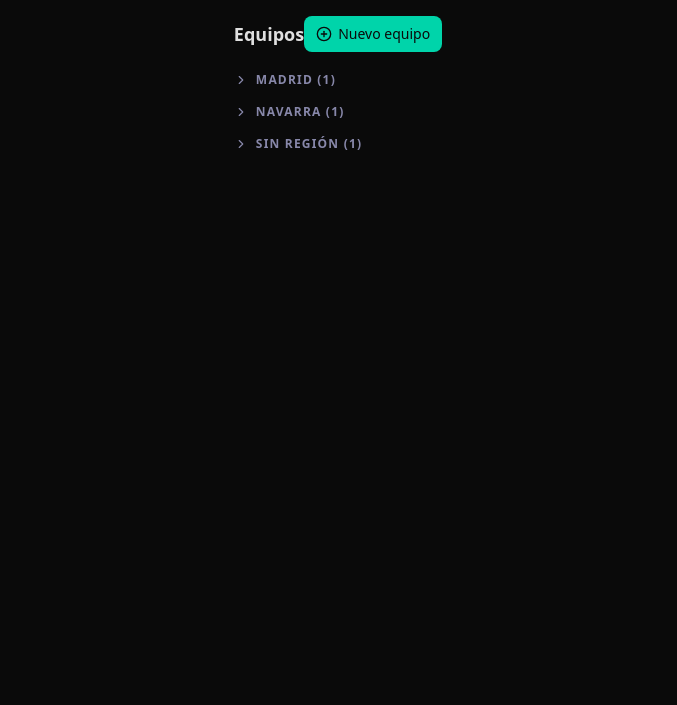
Test case: AdminEquiposPage › shows edit form with team data when clicking edit
Click the button "Madrid (1)".
click(338, 80)  # box x1=234 y1=68 x2=442 y2=92
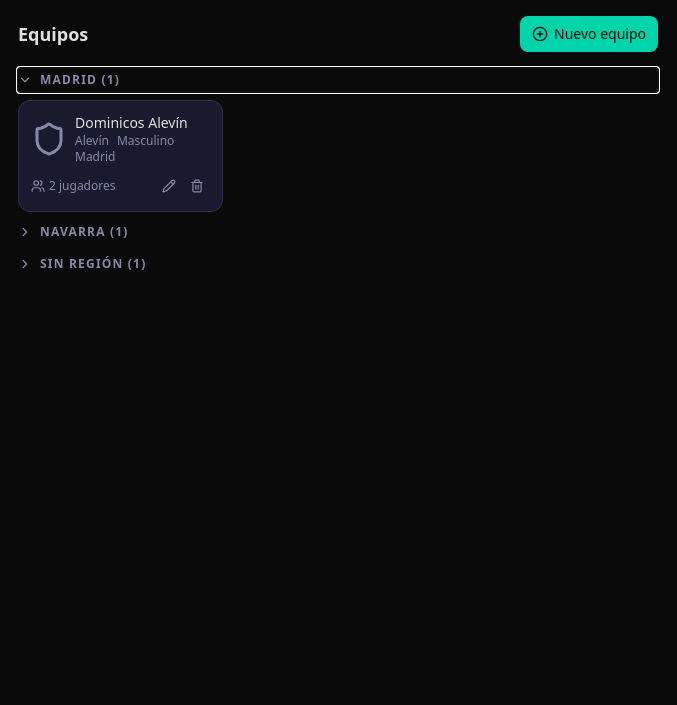
Click the button "Navarra (1)".
click(73, 232)  # box x1=18 y1=220 x2=658 y2=244
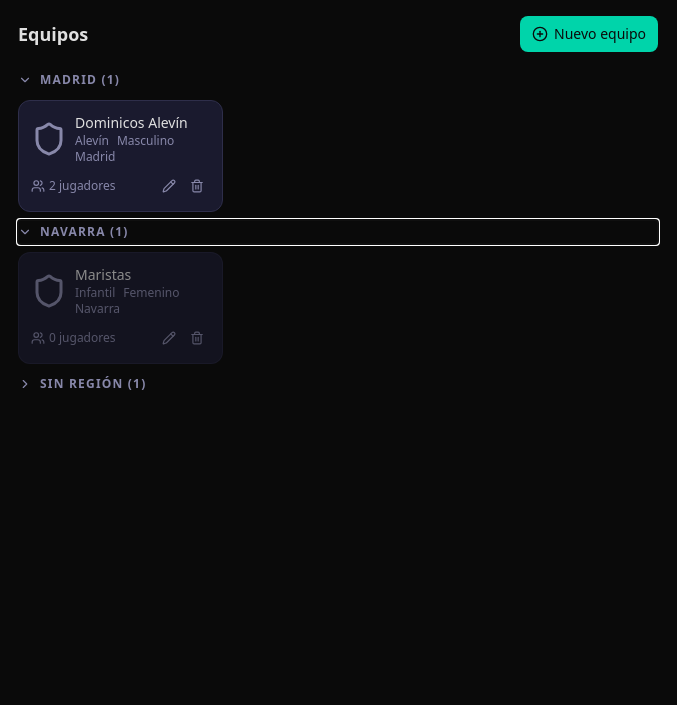
Click the button "Sin región (1)".
click(82, 384)  # box x1=18 y1=372 x2=658 y2=396
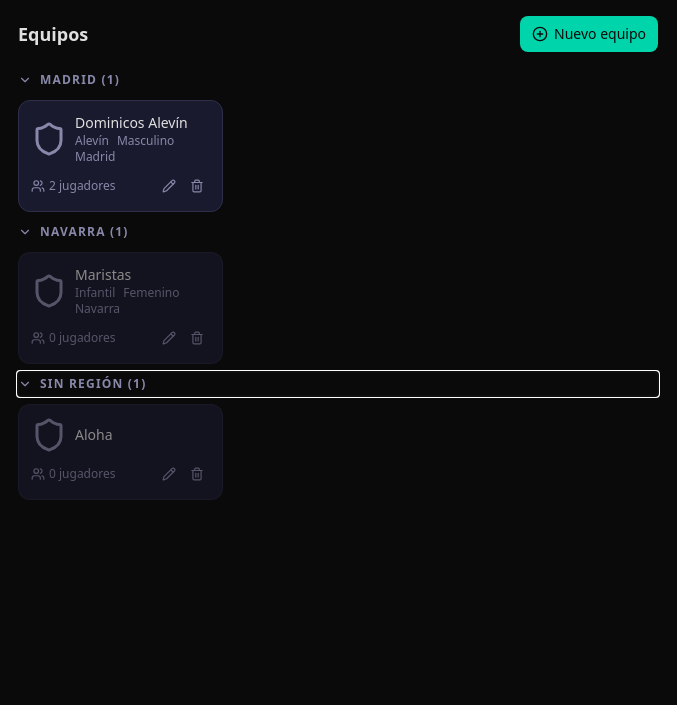
Click the button titled "Editar equipo" below "Masculino".
click(169, 186)  # box x1=156 y1=173 x2=182 y2=199
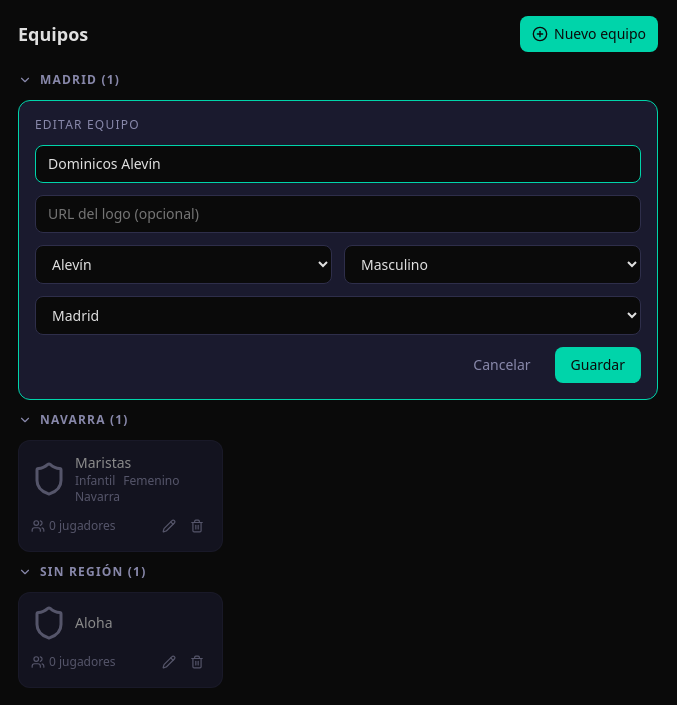
Now the field showing "Dominicos Alevín" is shown, box x1=35 y1=145 x2=641 y2=183
Now the button "Guardar" is shown, box x1=554 y1=347 x2=641 y2=383
